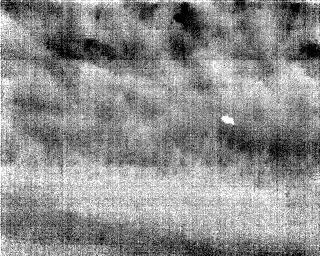BIRD: (219, 113, 238, 128)
